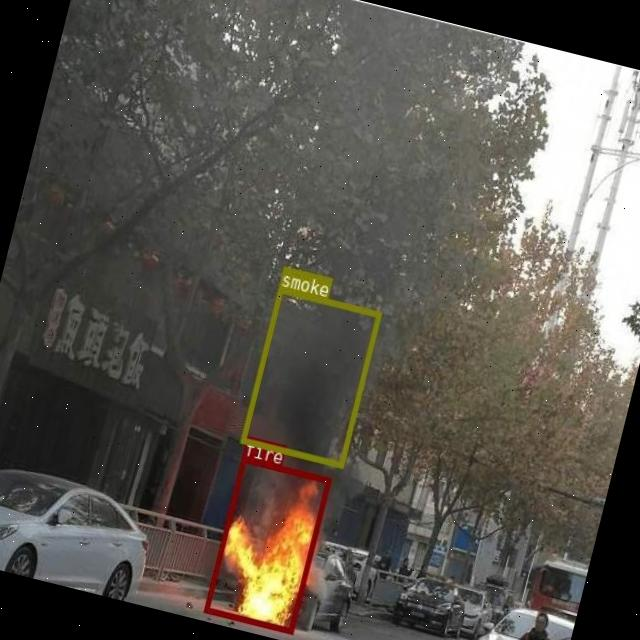fire: (203, 456, 330, 634)
smoke: (240, 286, 380, 466)
